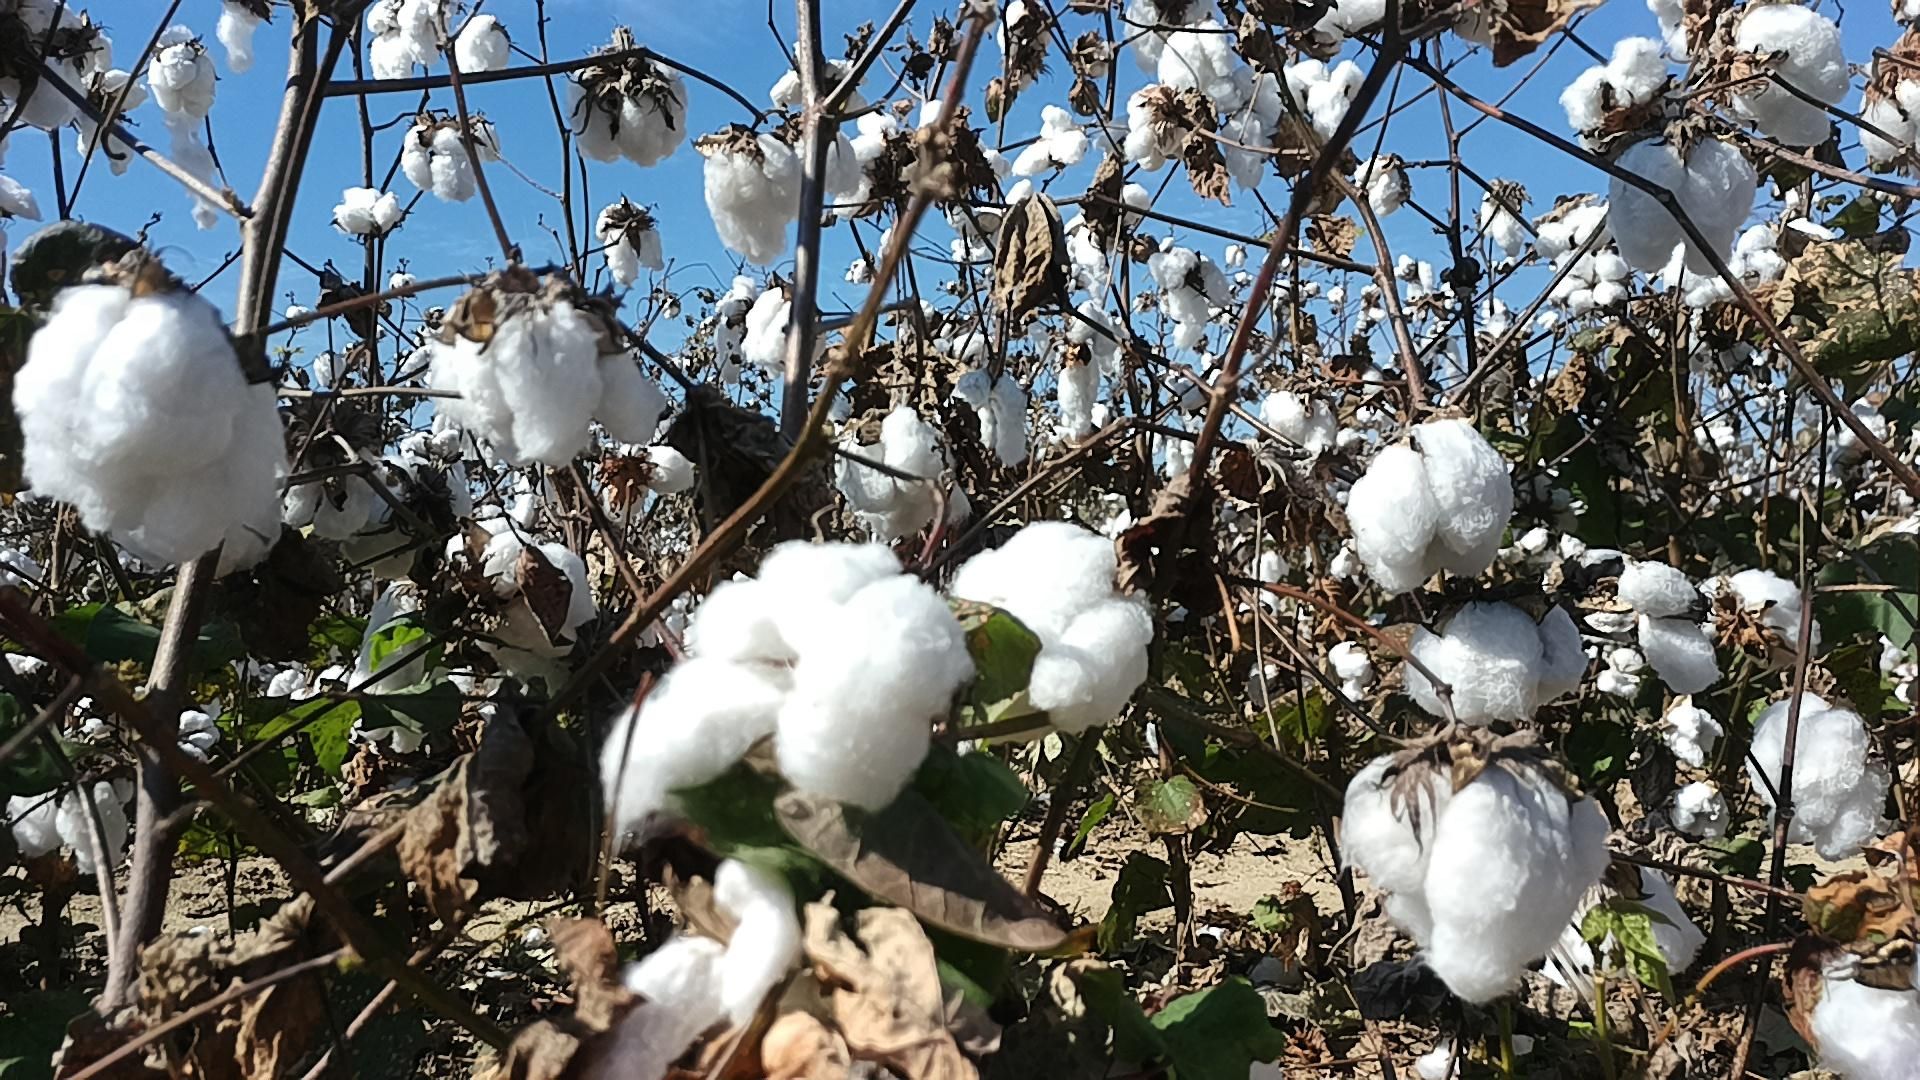cotton_ready: (600, 541, 976, 845), (11, 284, 290, 568), (1348, 746, 1610, 1004), (600, 851, 803, 1080), (953, 520, 1158, 738), (430, 303, 670, 471), (1348, 418, 1515, 591), (1618, 558, 1824, 691), (446, 513, 592, 684), (5, 719, 144, 884), (1400, 600, 1592, 719), (1610, 125, 1755, 281), (1749, 691, 1883, 858), (345, 426, 480, 585), (1159, 21, 1283, 190), (1793, 931, 1920, 1080), (1730, 0, 1850, 149), (832, 411, 973, 538), (345, 578, 442, 756), (0, 0, 111, 136), (148, 28, 218, 223), (270, 431, 385, 550), (1557, 37, 1665, 161), (705, 132, 803, 265), (572, 63, 688, 167), (1650, 699, 1735, 836), (1065, 185, 1151, 301), (404, 113, 502, 211), (918, 98, 1015, 195), (837, 103, 910, 225), (1058, 305, 1120, 443), (1858, 32, 1920, 167), (1151, 247, 1236, 345), (1685, 231, 1797, 303), (78, 66, 150, 175), (956, 363, 1033, 465), (1282, 57, 1367, 141), (1258, 381, 1341, 465), (744, 291, 828, 371), (368, 0, 443, 80), (600, 203, 669, 287), (1124, 90, 1191, 175), (1549, 251, 1638, 315), (1124, 0, 1209, 66), (770, 45, 856, 111), (1010, 105, 1088, 178), (791, 129, 862, 203), (716, 276, 762, 385), (1292, 0, 1390, 50), (1643, 0, 1713, 58), (332, 191, 407, 240), (454, 17, 516, 75), (1478, 187, 1523, 261), (1538, 208, 1615, 251), (1358, 161, 1408, 215)
